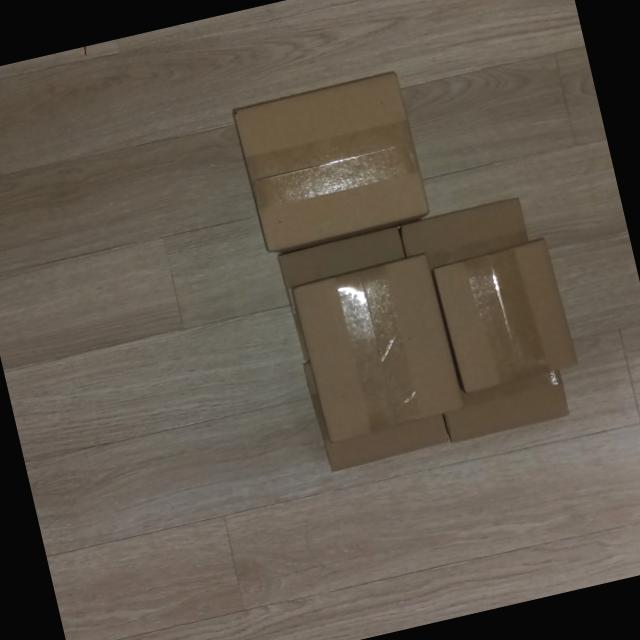box: (230, 68, 434, 258), (284, 250, 469, 448), (426, 229, 585, 400)
